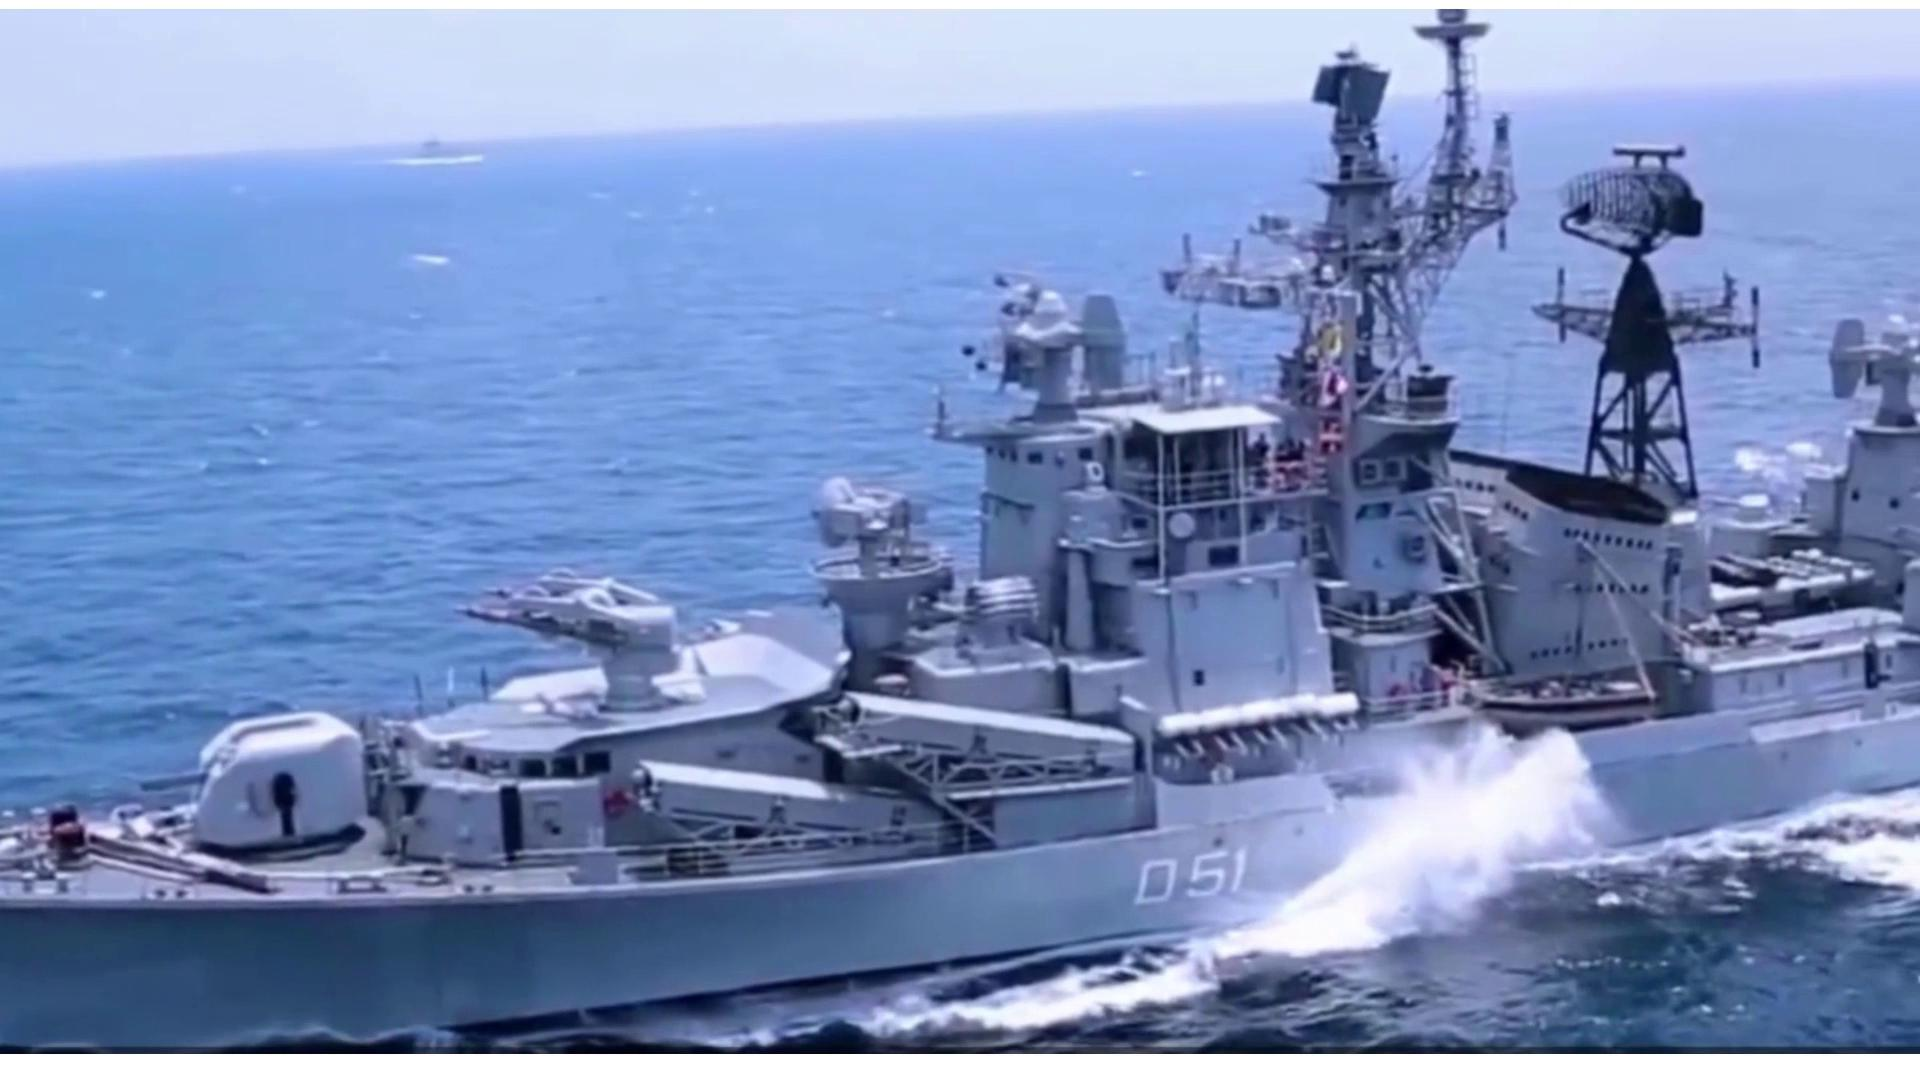OCR: (1114, 835, 1253, 919)
